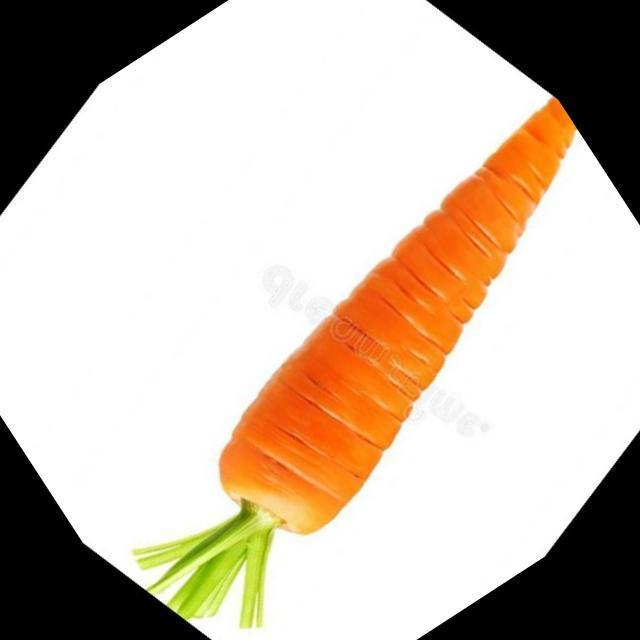carrot: (134, 99, 575, 627)
